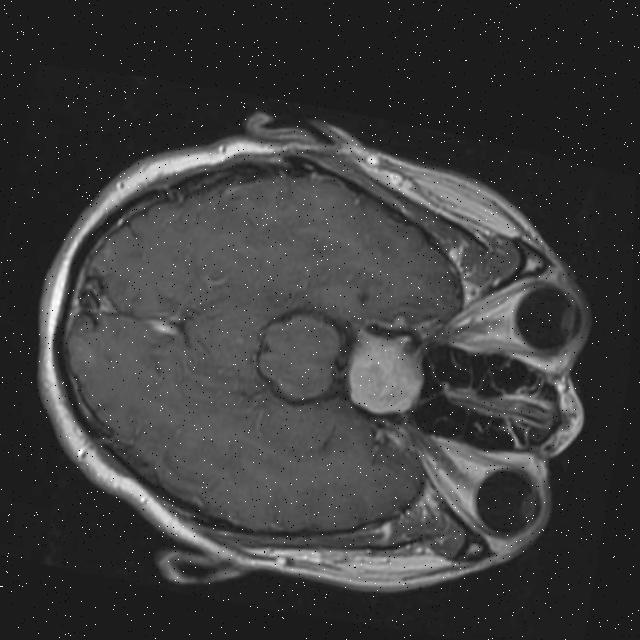Pituitary: (343, 326, 431, 423)
